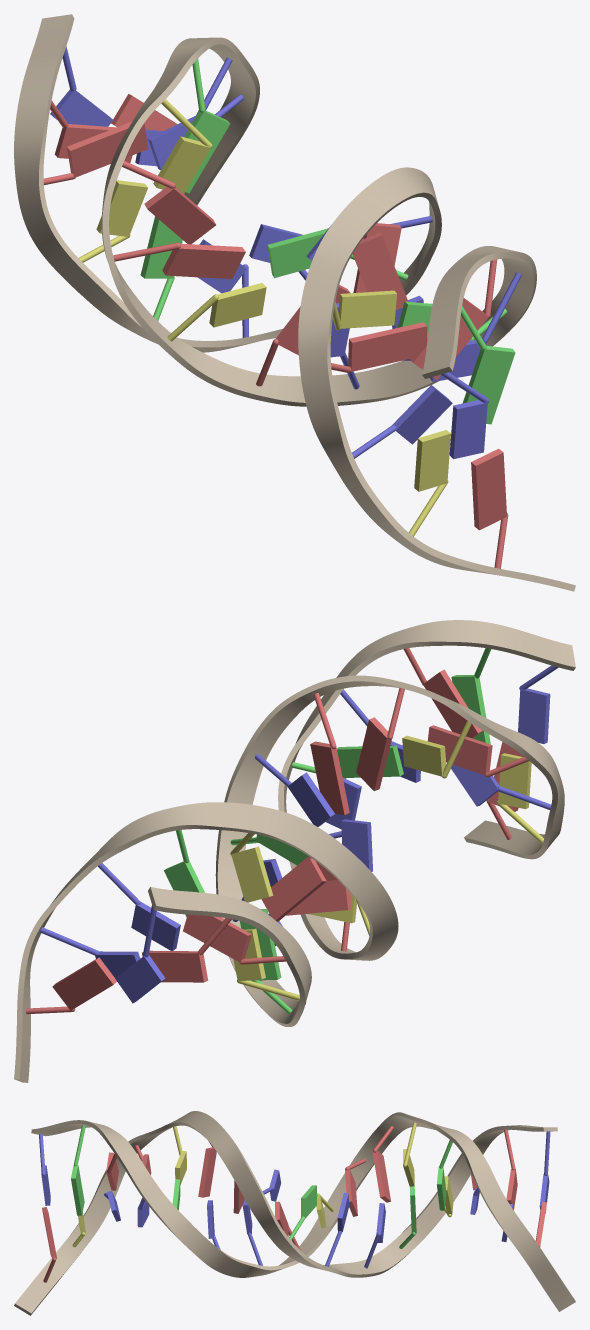
File: 3bse-1.glb
The picture shows the model from 3 angles, top to bottom: view 1: azimuth 30°, elevation 25°; view 2: azimuth 150°, elevation 25°; view 3: azimuth 270°, elevation 25°; orthographic projection. The views are drawn at different scales.
Visible parts, largest first — view 1: nucleotides, ribbons; view 2: nucleotides, ribbons; view 3: ribbons, nucleotides.
Boxes of the visible parts, box(x1,y1,x2,y2) form: nucleotides: box(43, 46, 521, 568); ribbons: box(14, 14, 575, 591); nucleotides: box(26, 648, 558, 1014); ribbons: box(14, 620, 575, 1082); ribbons: box(14, 1111, 575, 1315); nucleotides: box(39, 1122, 550, 1282).
Bounding box in the file's own units: 19.61 × 20.82 × 57.12.
